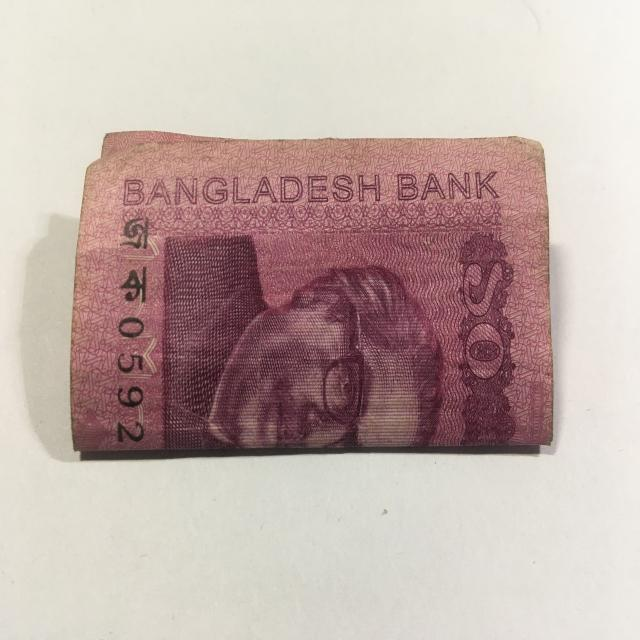Taka: (75, 120, 572, 464)
